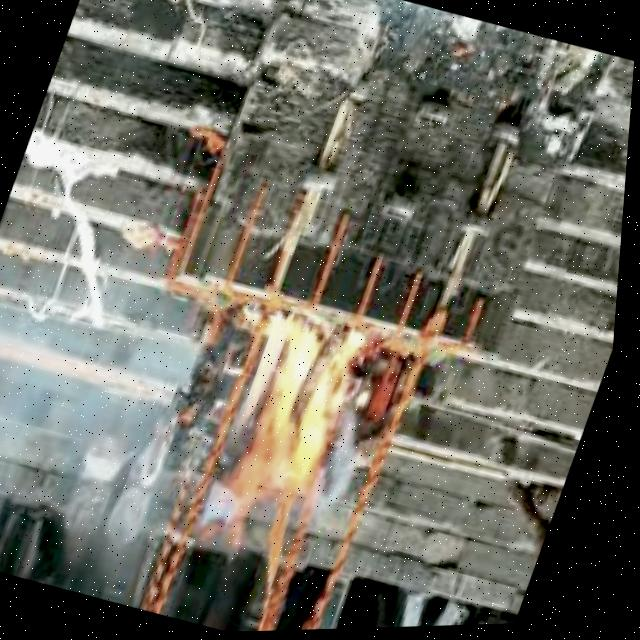Fire: (190, 292, 413, 561)
